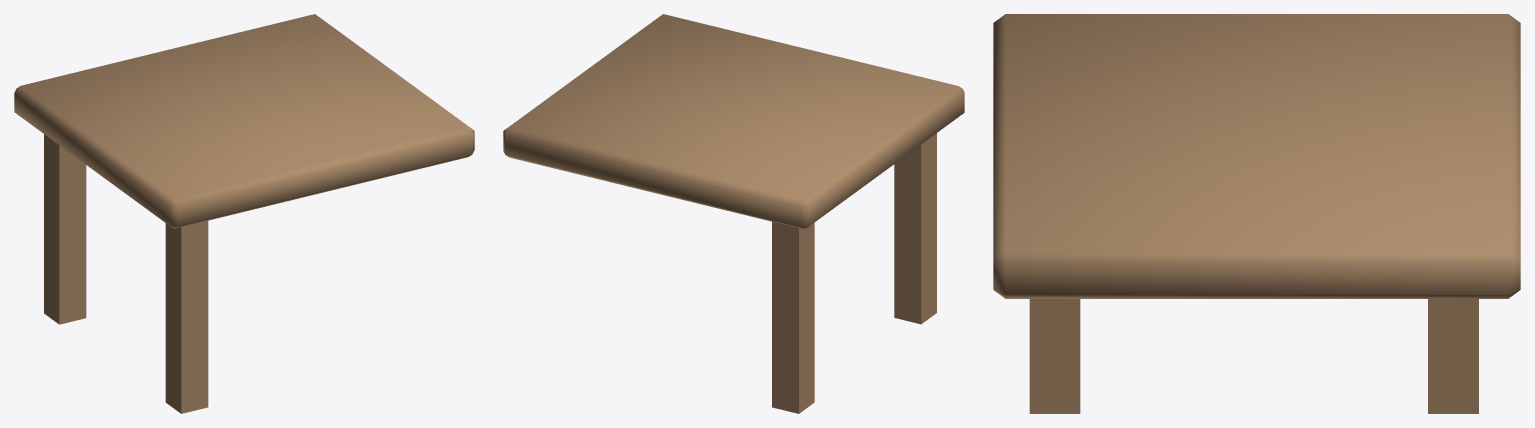
File: table_left.glb
The picture shows the model from 3 angles, left to right: view 1: azimuth 30°, elevation 25°; view 2: azimuth 150°, elevation 25°; view 3: azimuth 270°, elevation 25°; orthographic projection. The views are drawn at different scales.
Parts seen in each view (by area): view 1: Table; view 2: Table; view 3: Table.
Boxes of the visible parts, bbox=[...] form: Table: bbox=[14, 14, 474, 413]; Table: bbox=[503, 14, 964, 413]; Table: bbox=[993, 14, 1520, 413].
Size of the model in its own units: 2.61 by 1.82 by 2.38.
